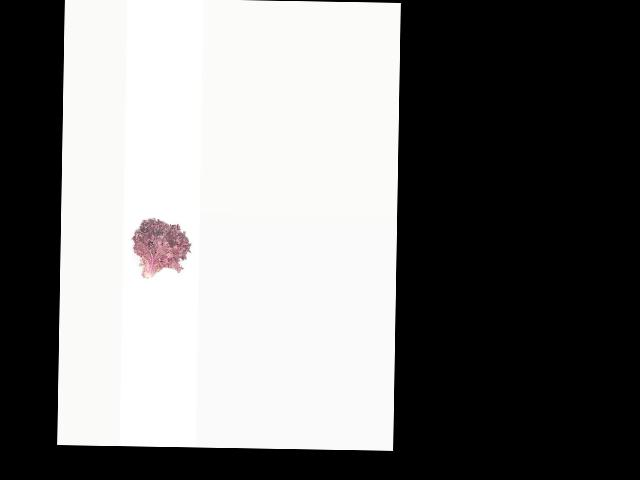lettuce: (133, 214, 193, 285)
